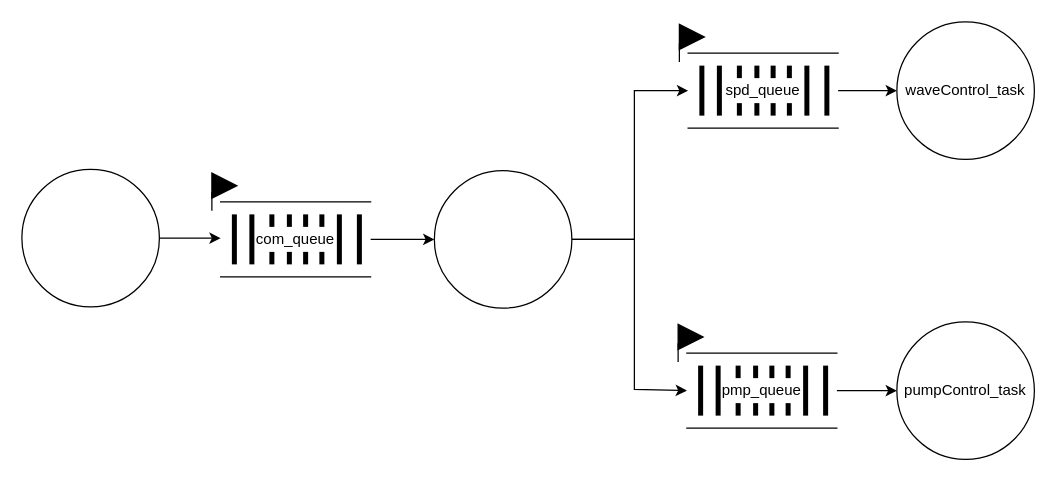
Image size: 1056x481. Some labels were removed from this diagram. The shapes that lost their labels are listed below. From the top down, each one's centre as x and y in pixels, then its label:
the point at 90,237: com_task
the point at 502,238: interpreter_task
